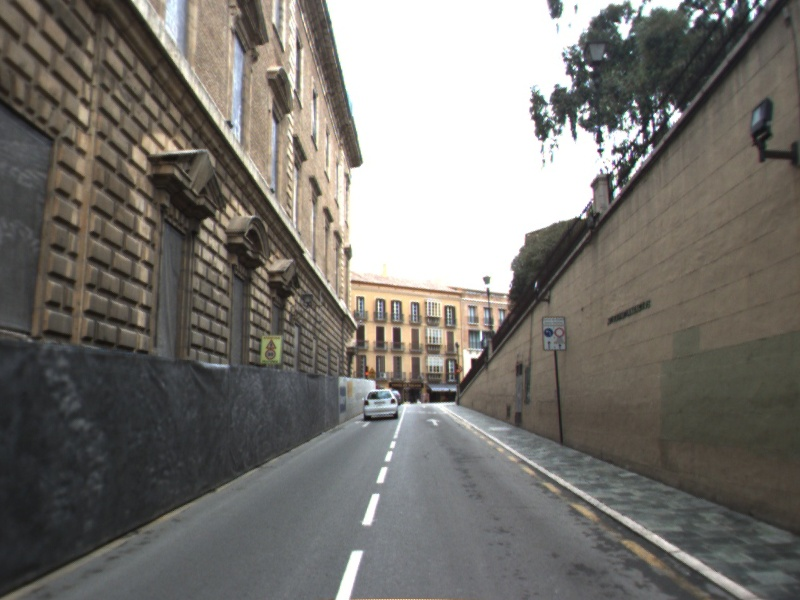LEFT: (352, 419, 373, 429)
STRAIGHT: (424, 416, 442, 428)
